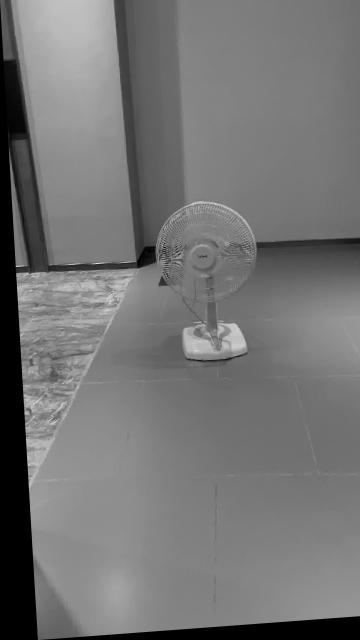Fan: (153, 204, 253, 364)
